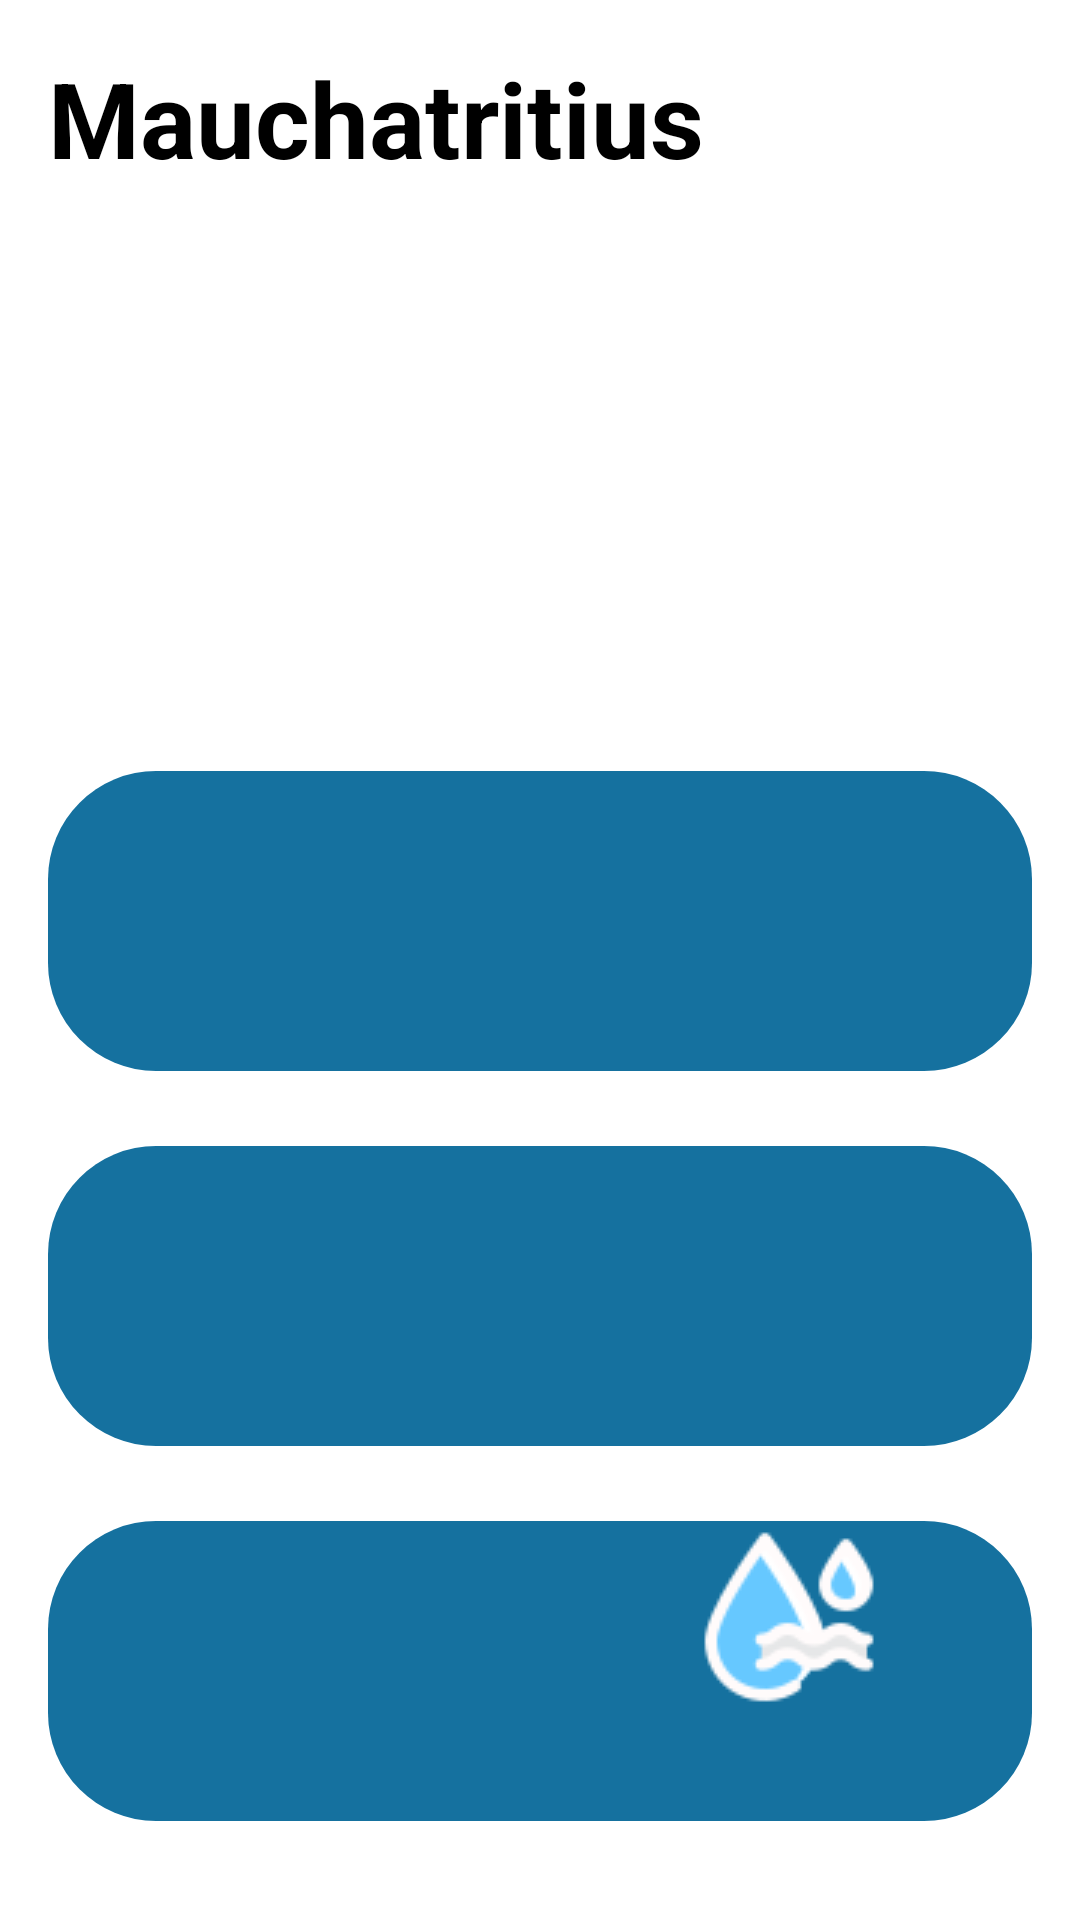

Locate icon controls on the screen. Image size 1080*1920, boxes as (x1, y1, x2, y2).
humidity: (704, 1532, 874, 1702)
